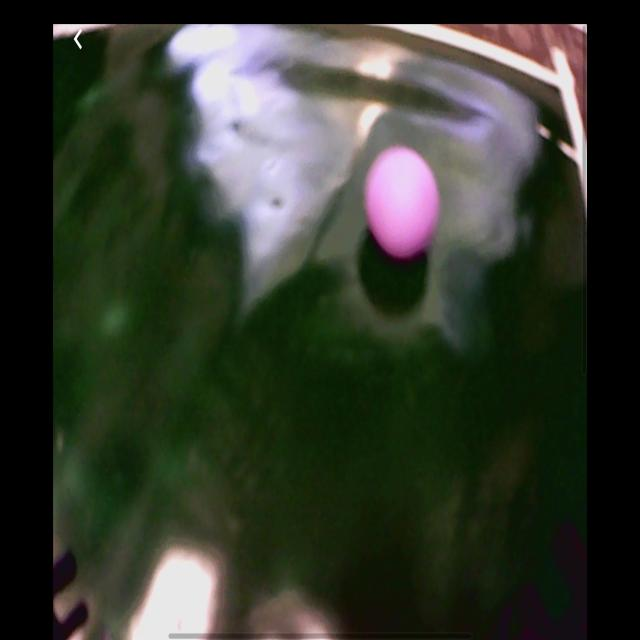ball: (366, 146, 441, 260)
